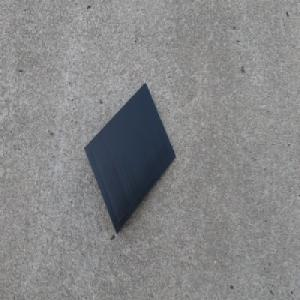PlasticPart: (83, 80, 176, 235)
